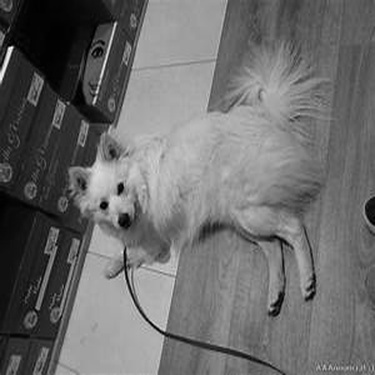dog: (53, 25, 341, 321)
